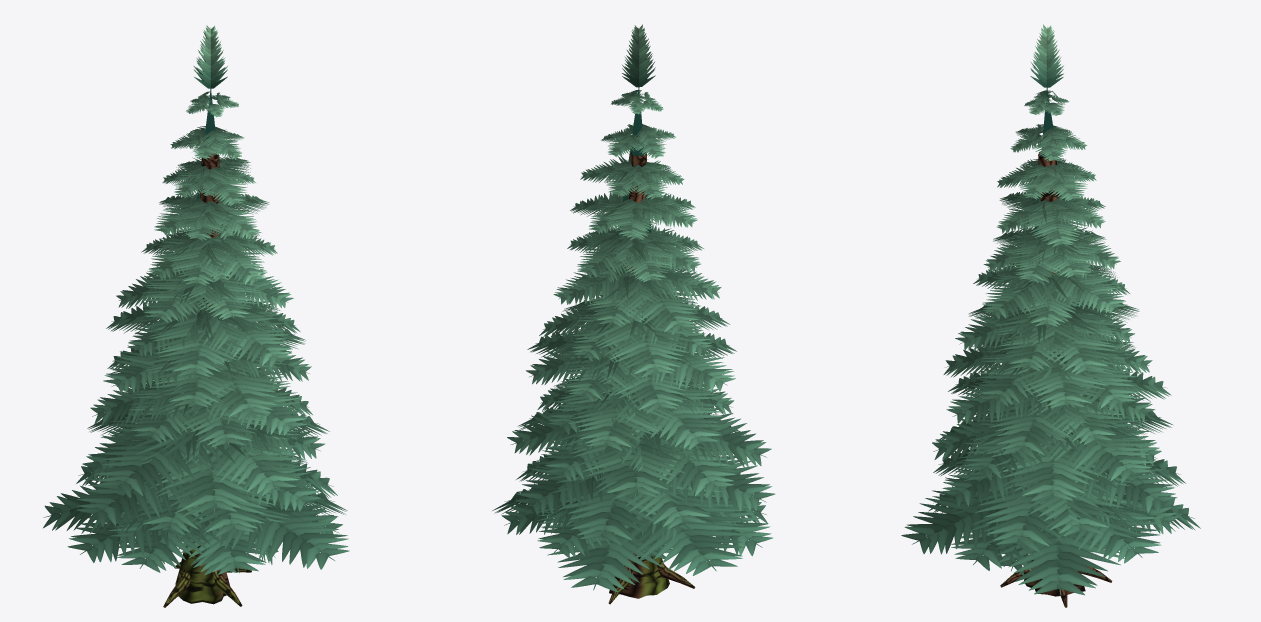
Rendered from pine_tall_lod1.gltf.
3 renders of one model, left to right at view 1: azimuth 30°, elevation 25°; view 2: azimuth 150°, elevation 25°; view 3: azimuth 270°, elevation 25°, orthographic.
Parts seen in each view (by area): view 1: Canopy_summer, Trunk; view 2: Canopy_summer, Trunk; view 3: Canopy_summer, Trunk.
Boxes of the visible parts, box(x1,y1,x2,y2) form: Canopy_summer: box(43, 25, 349, 575); Trunk: box(163, 152, 251, 607); Canopy_summer: box(492, 24, 775, 592); Trunk: box(608, 151, 695, 604); Canopy_summer: box(901, 24, 1200, 595); Trunk: box(1000, 152, 1111, 607).
Bounding box in the file's own units: 5.41 × 8.66 × 5.46.
Materials: 2 (2 with a texture image).
